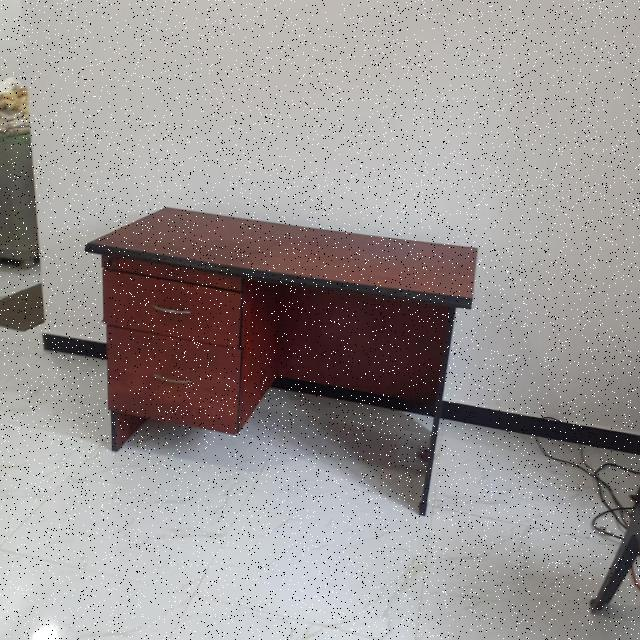mobile-phone: (85, 204, 477, 518)
